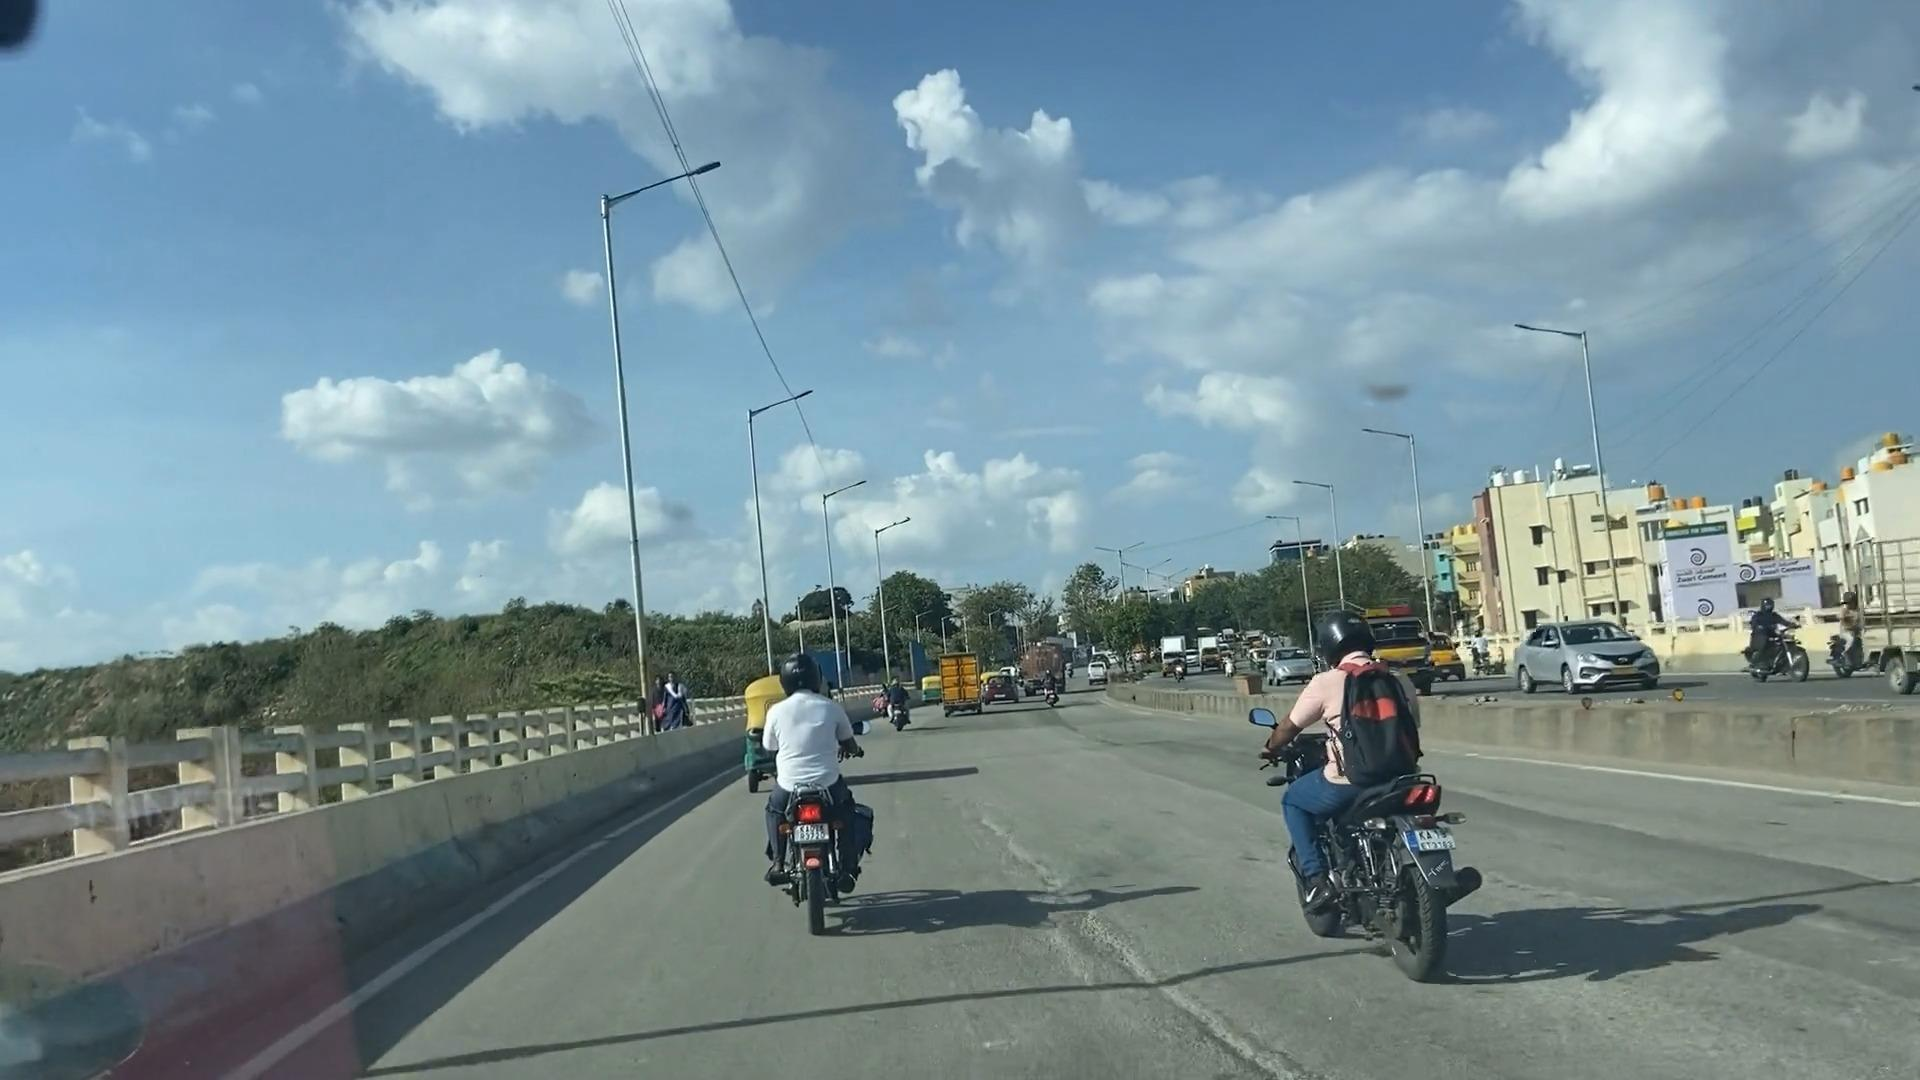LMV: (1234, 588, 1515, 1010)
